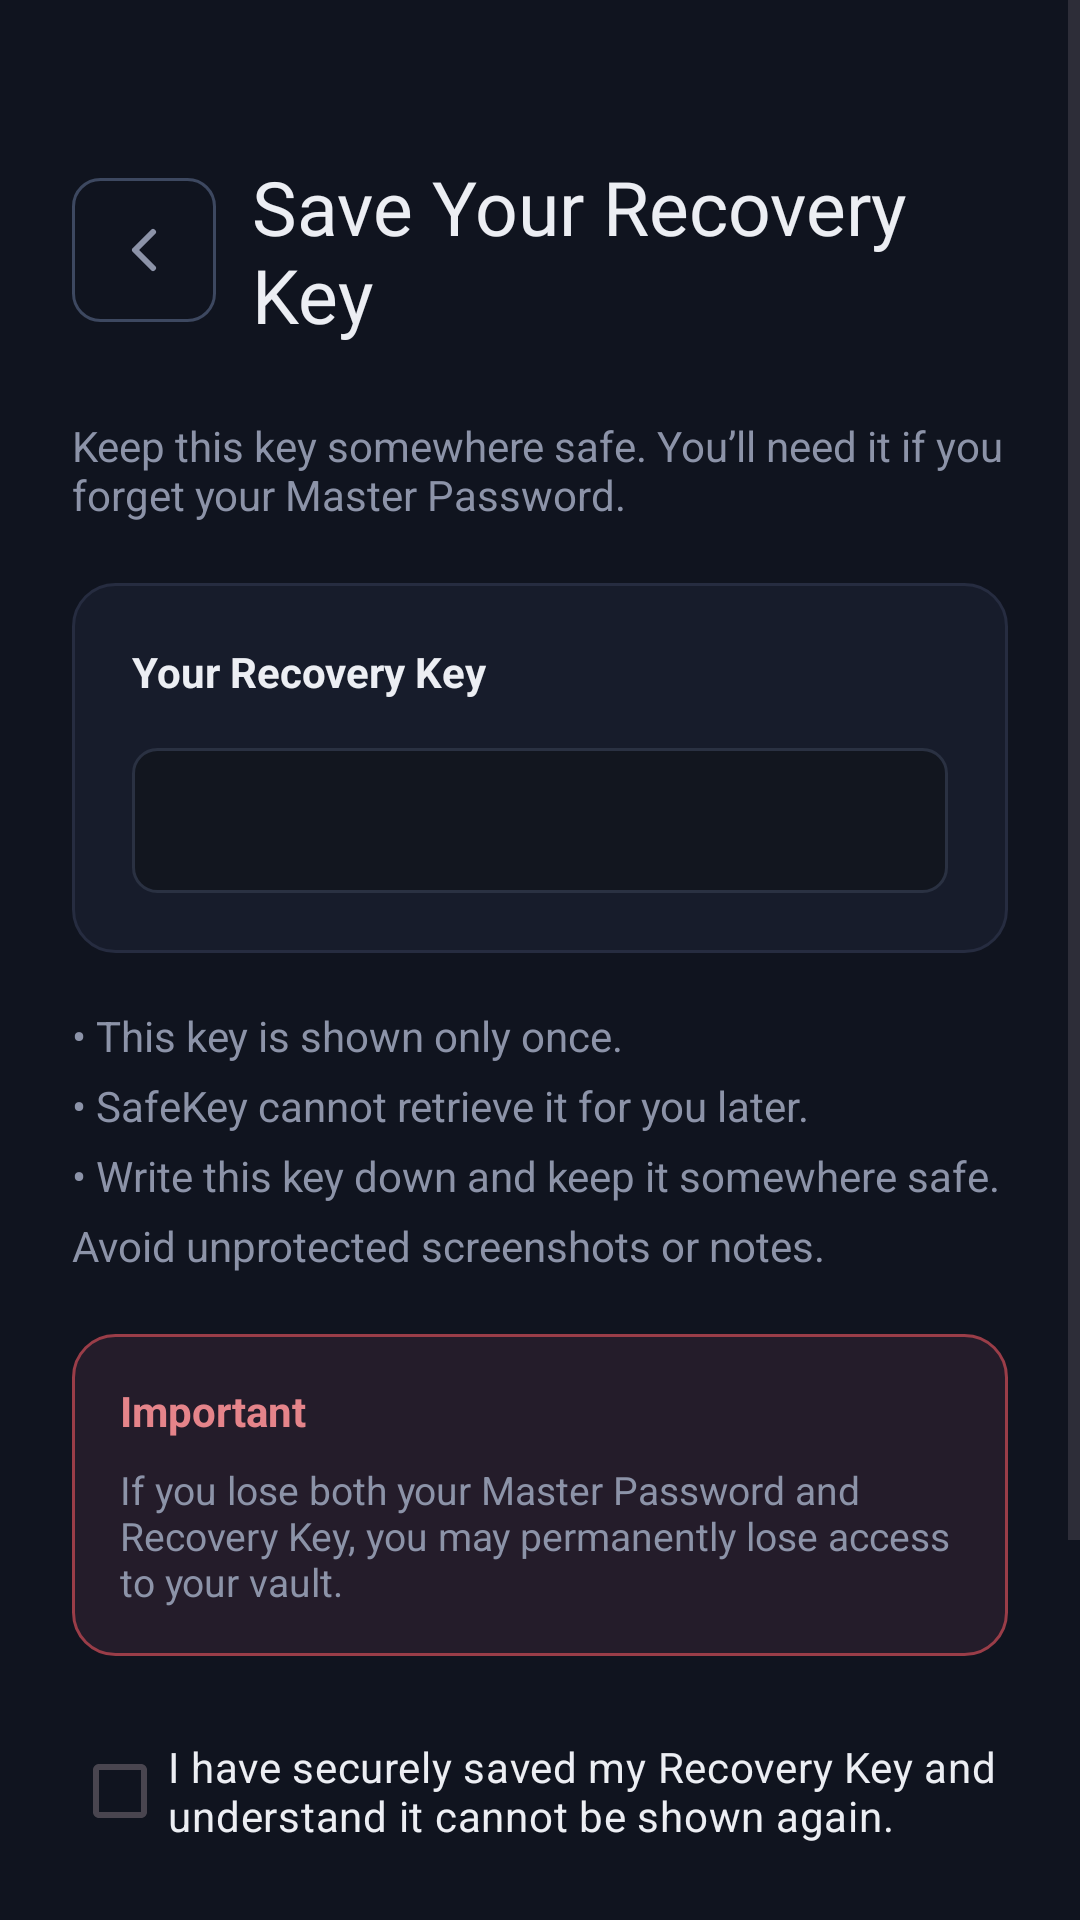

Icons on this 1080px×1920px Android screen, each with its box as bbox=[x1, y1, x2, y2]:
Back to Sign Up: bbox=[72, 178, 216, 322]
